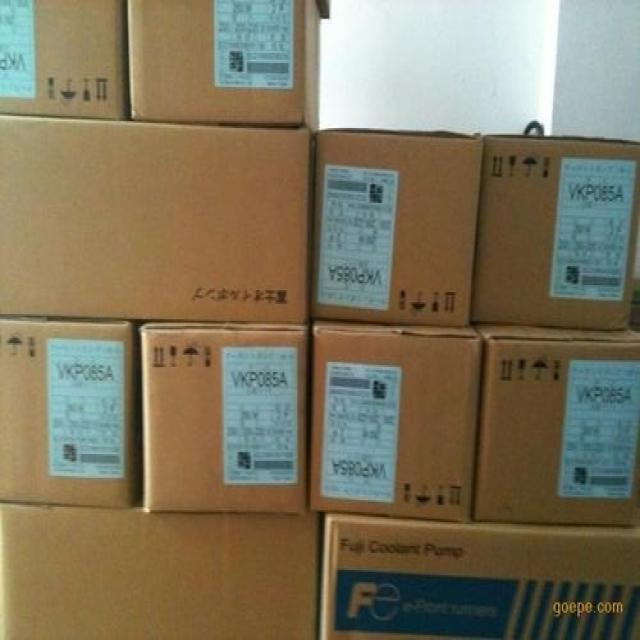box: (0, 115, 313, 322), (0, 498, 319, 638), (470, 278, 639, 527), (318, 511, 639, 638), (307, 323, 482, 521), (313, 133, 483, 330), (471, 136, 639, 333), (139, 322, 307, 515), (0, 317, 139, 507), (126, 3, 325, 134), (0, 3, 132, 119)
